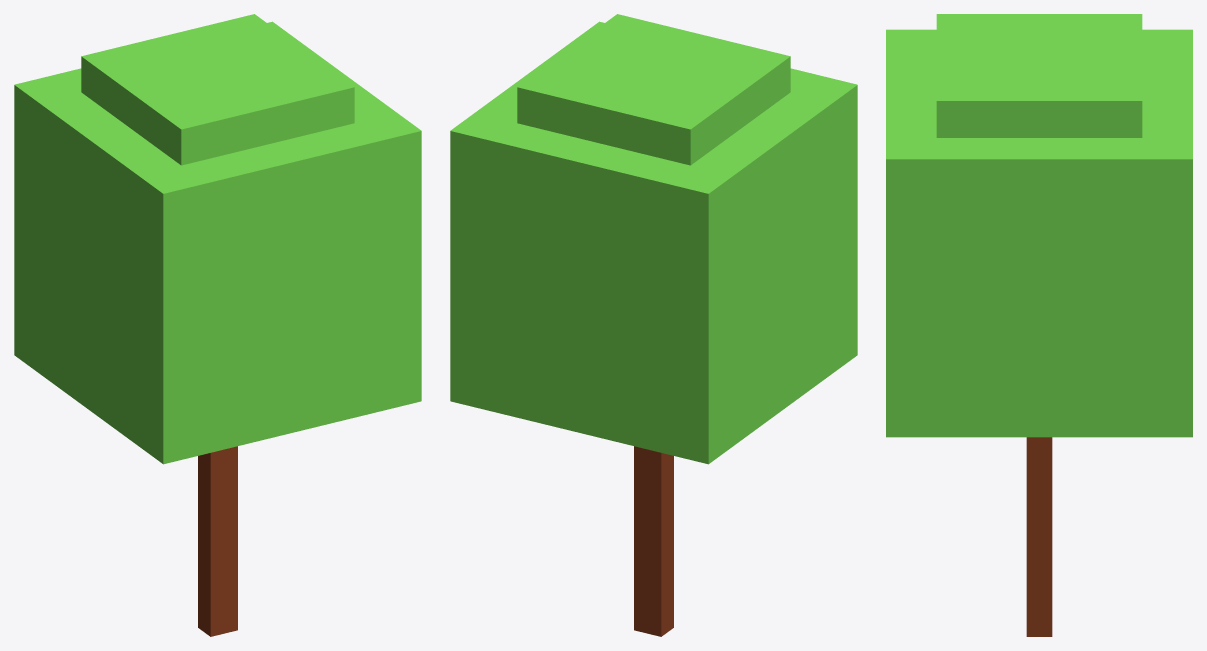
The model's file is tree2.fbx.
3 views of the same model, side by side, from view 1: azimuth 30°, elevation 25°; view 2: azimuth 150°, elevation 25°; view 3: azimuth 270°, elevation 25° (orthographic). The views are drawn at different scales.
Visible parts, largest first — view 1: Cube; view 2: Cube; view 3: Cube.
Boxes of the visible parts, x1,y1,x2,y2 form: Cube: [14, 14, 421, 636]; Cube: [450, 14, 857, 636]; Cube: [886, 14, 1192, 636].
Bounding box in the file's own units: 180 × 371 × 180.
